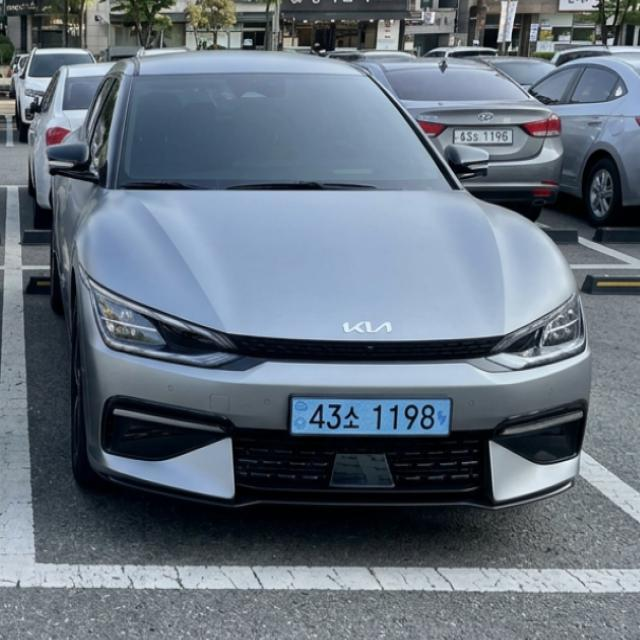car: (281, 388, 461, 450)
carev: (289, 391, 310, 440), (435, 396, 453, 436)
